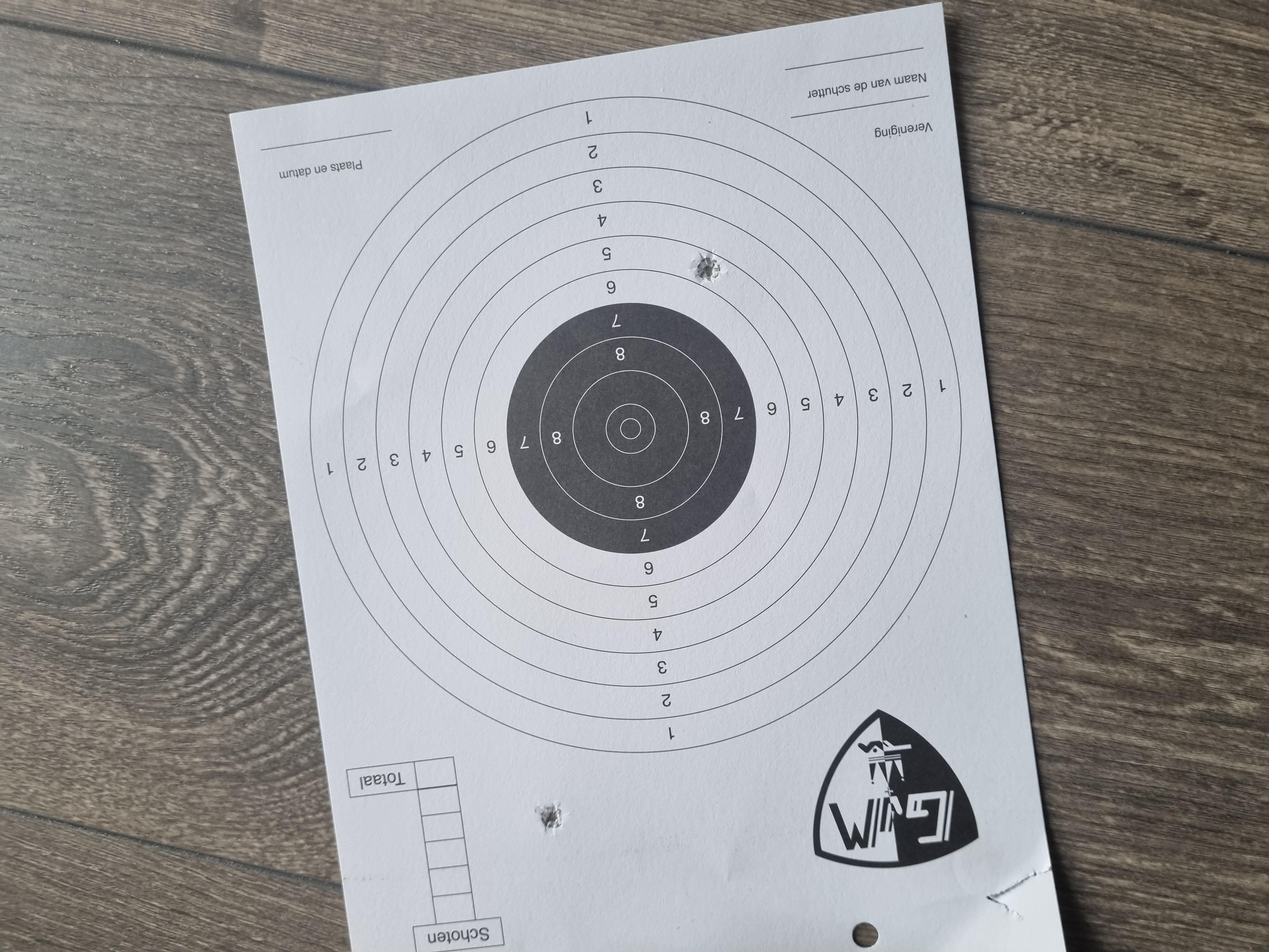hole: (161, 397, 203, 424), (891, 518, 932, 545)
